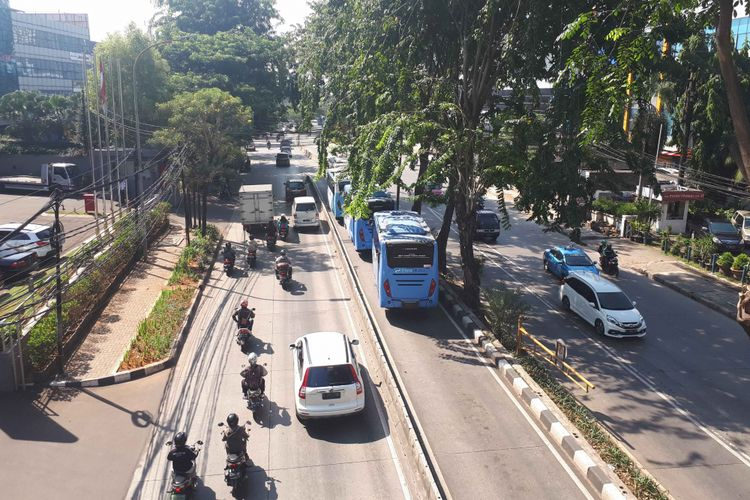car: (371, 210, 441, 317), (294, 330, 368, 424), (560, 270, 646, 340), (344, 184, 396, 254), (2, 158, 84, 194), (2, 223, 57, 269), (691, 211, 744, 255), (544, 248, 598, 287), (326, 168, 363, 221), (239, 184, 274, 234), (468, 208, 501, 245), (291, 194, 321, 230), (284, 180, 308, 203), (276, 152, 291, 168)
motorbike: (219, 416, 251, 497), (167, 427, 197, 500), (241, 355, 264, 422), (234, 301, 256, 356), (598, 238, 621, 280), (275, 250, 293, 290), (221, 242, 236, 278), (245, 238, 259, 271), (263, 221, 276, 250), (278, 214, 290, 242)
